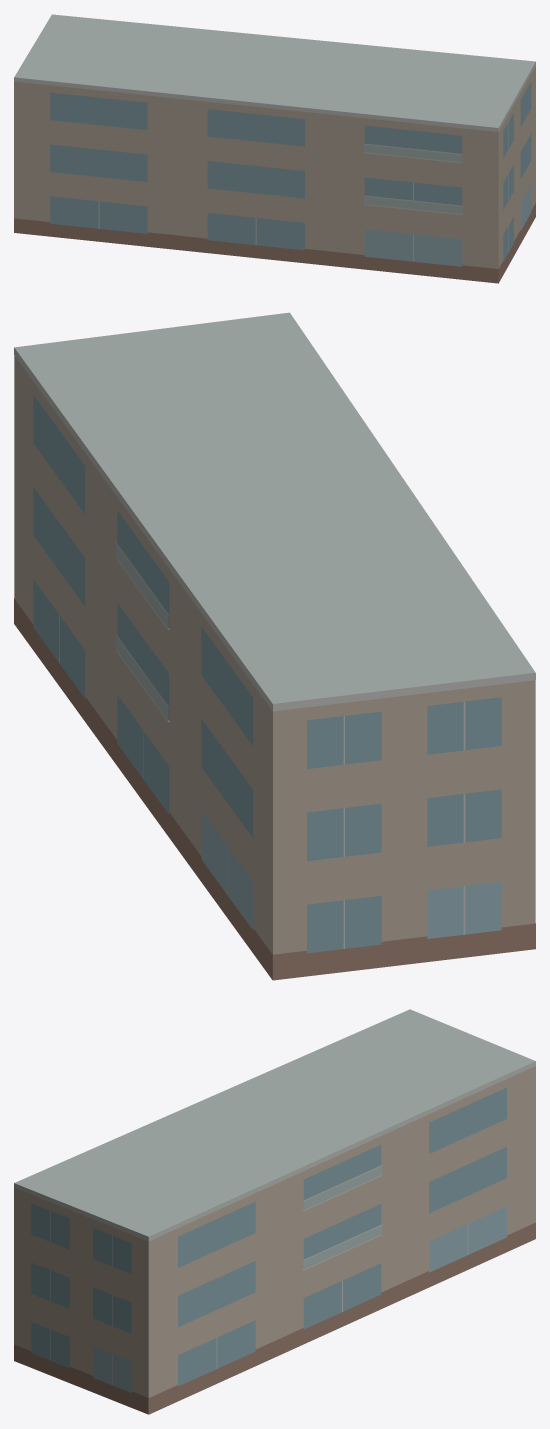
File: survey-upis-33038997.glb
3 views of the same model, one above another, from view 1: azimuth 30°, elevation 25°; view 2: azimuth 150°, elevation 25°; view 3: azimuth 270°, elevation 25° (orthographic). The views are drawn at different scales.
Visible parts, largest first — view 1: survey-upis-33038997.tmp; view 2: survey-upis-33038997.tmp; view 3: survey-upis-33038997.tmp.
Boxes of the visible parts, x1,y1,x2,y2 form: survey-upis-33038997.tmp: [14, 14, 535, 283]; survey-upis-33038997.tmp: [14, 312, 535, 980]; survey-upis-33038997.tmp: [14, 1009, 535, 1414].
Bounding box in the file's own units: 25.11 × 9.15 × 24.34.
